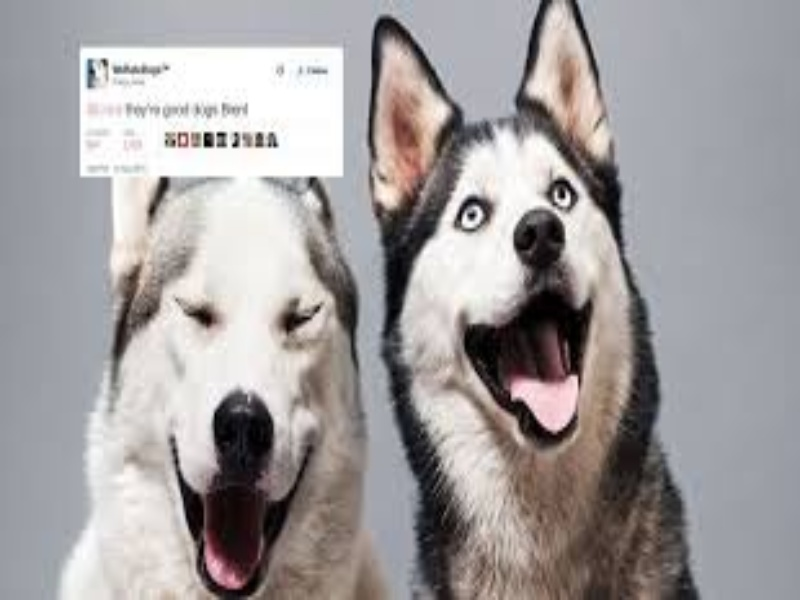dog: (361, 3, 719, 600), (88, 183, 386, 600)
